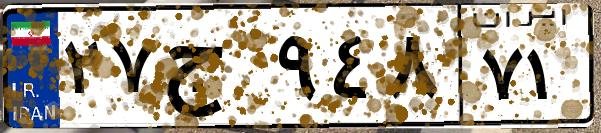1: (525, 38, 570, 115)
2: (57, 26, 110, 100)
4: (330, 28, 385, 110)
7: (475, 38, 525, 113), (110, 28, 158, 98)
8: (385, 28, 445, 110)
9: (270, 28, 330, 110)
ج: (158, 20, 270, 120)
